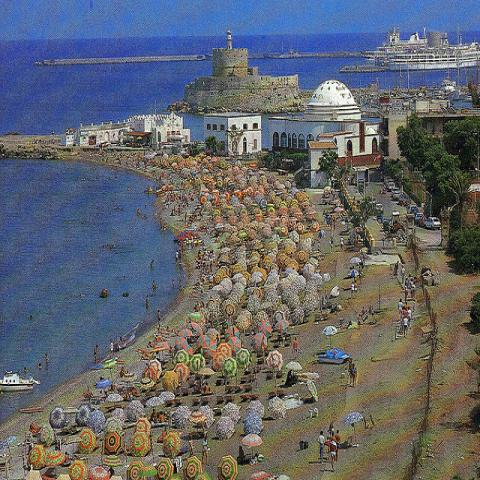car: (424, 216, 441, 230), (397, 193, 410, 207), (416, 216, 428, 228), (407, 205, 418, 214), (415, 213, 424, 223), (387, 181, 396, 191), (391, 187, 399, 197), (375, 204, 384, 212)
